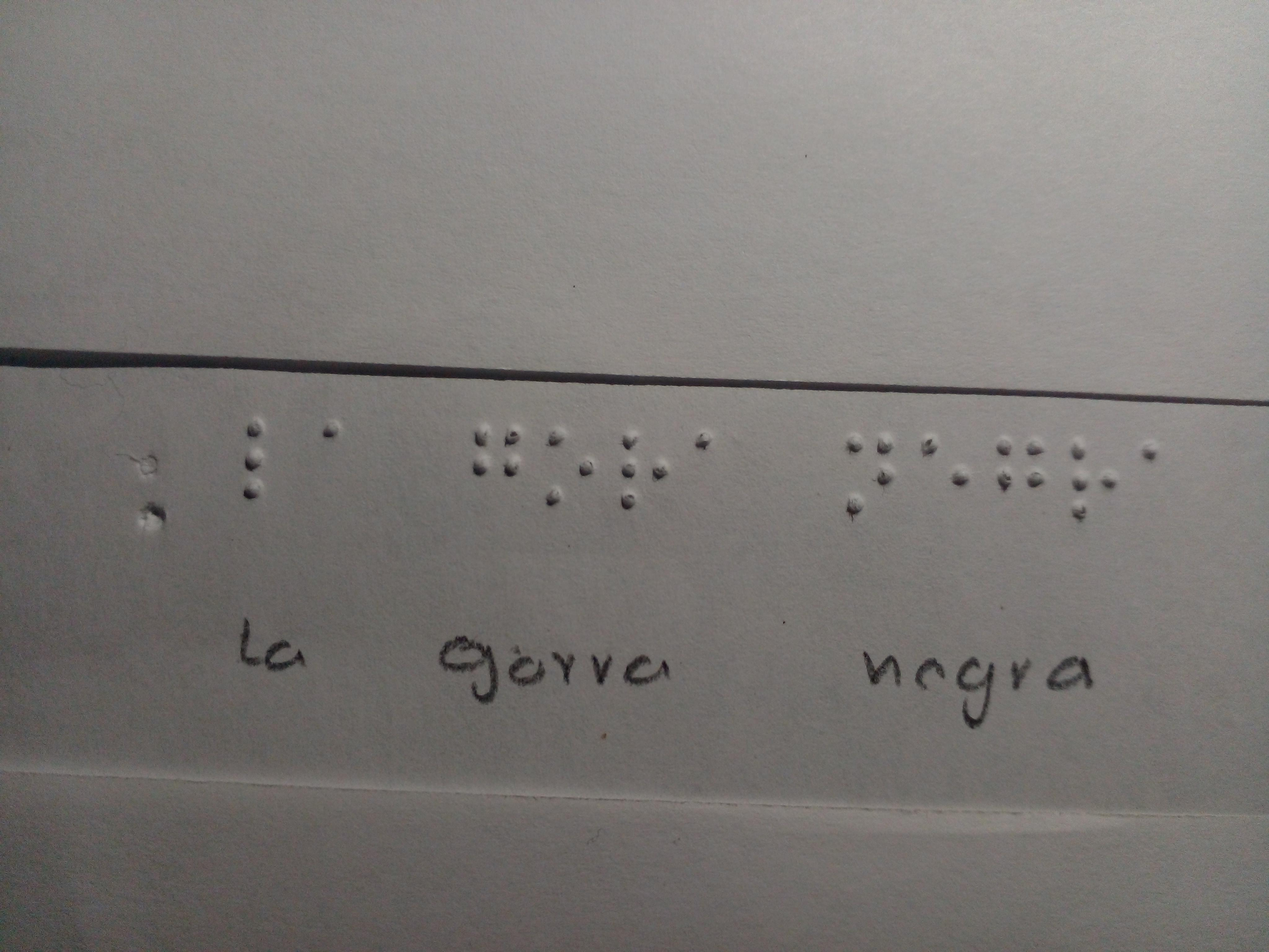a: (302, 401, 359, 460), (672, 415, 731, 465), (1131, 425, 1171, 476)
e: (909, 420, 977, 507)
g: (455, 417, 536, 496), (987, 428, 1053, 494)
l: (225, 397, 280, 518)
n: (836, 423, 906, 518)
o: (541, 423, 598, 519)
r: (1056, 431, 1125, 531), (612, 420, 674, 516)
